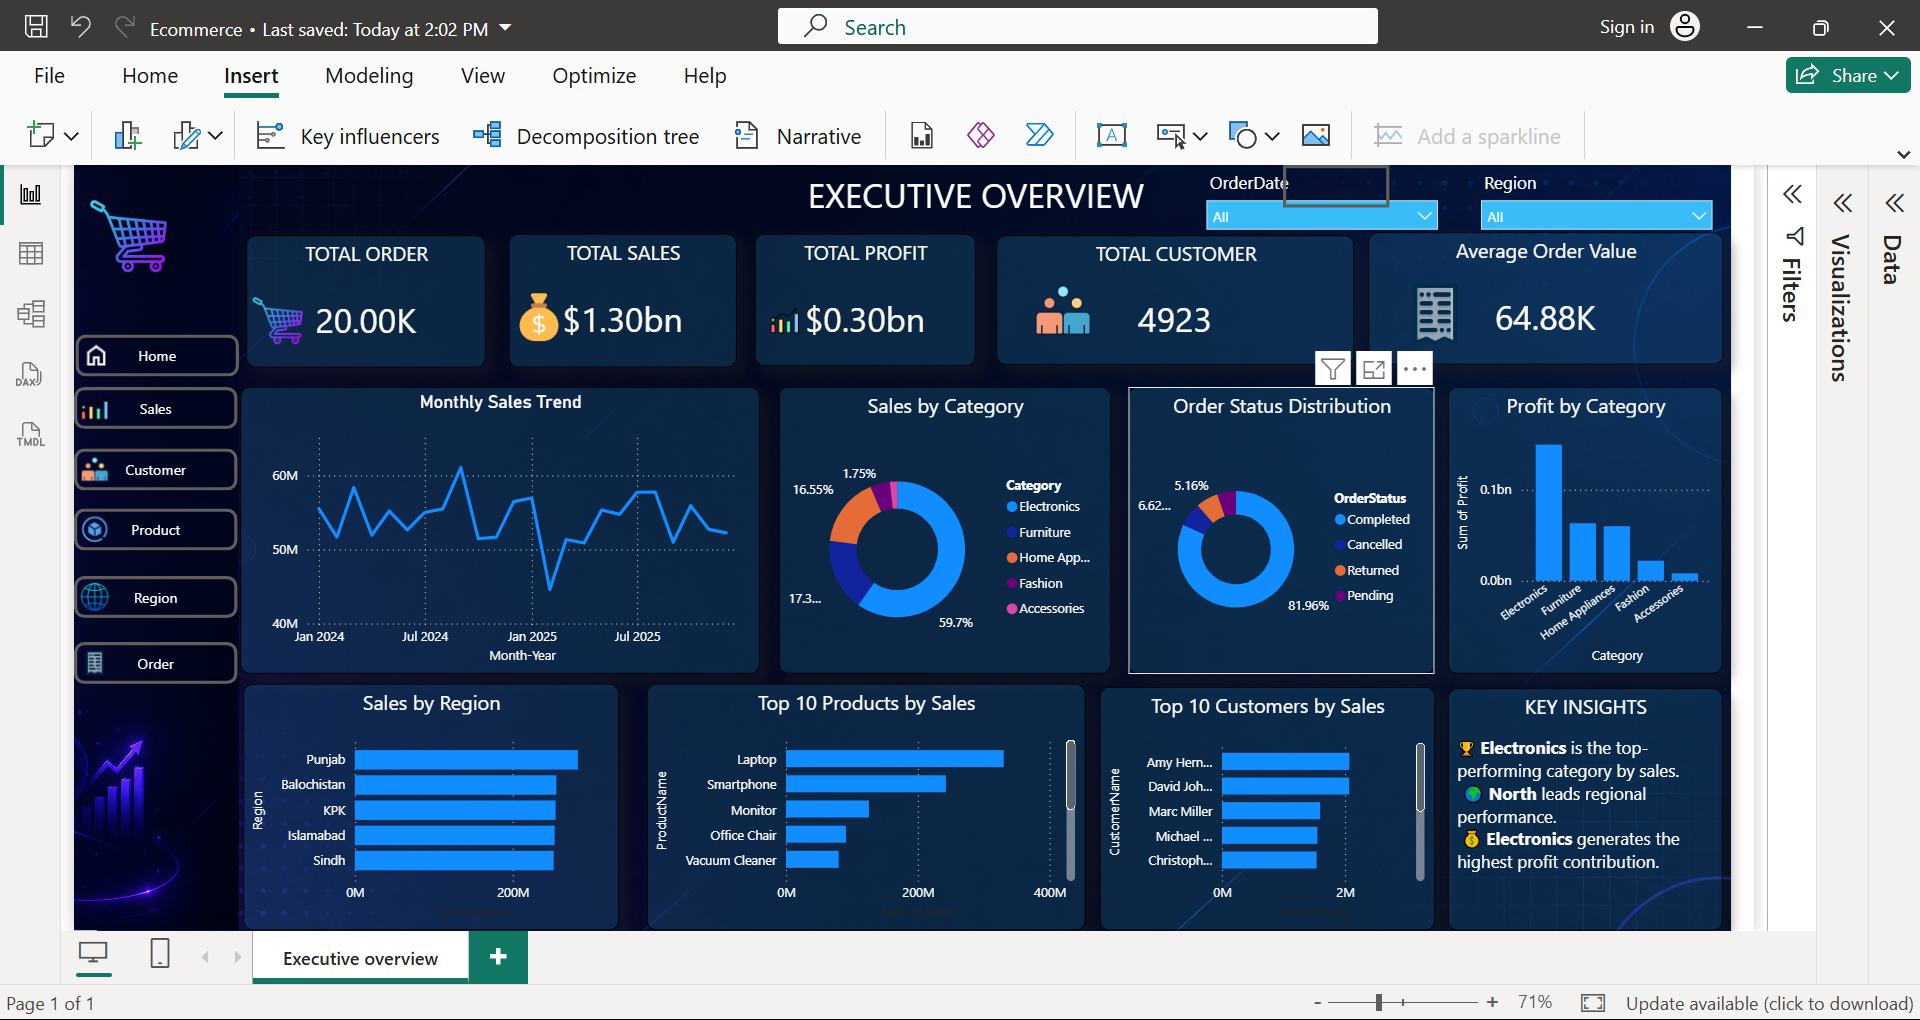

Layout of this report page (visuals, bound fields, positions):
{"tool":"powerbi","page":{"name":"Executive overview","canvas":[1580,720],"ordinal":0},"visuals":[{"type":"card","title":"TOTAL ORDER","fields":{"Values":["Count(ecommerce_orders.OrderID)"]},"box":[162.6,66.9,224.7,124.3],"z":0},{"type":"image","box":[162.6,117.9,59,55.8],"z":1000},{"type":"card","title":"TOTAL SALES","fields":{"Values":["Sum(ecommerce_orders.Sales)"]},"box":[409.3,65.1,214.3,125.5],"z":2000},{"type":"card","title":"TOTAL PROFIT","fields":{"Values":["Sum(ecommerce_orders.Profit)"]},"box":[640.5,65.1,207.4,124.2],"z":3000},{"type":"card","title":"Average Order Value","fields":{"Values":["customers.Average Order Value"]},"box":[1216.1,63.8,333.1,124.3],"z":4000},{"type":"card","title":"TOTAL CUSTOMER","fields":{"Values":["Count(ecommerce_orders.CustomerID)"]},"box":[867,66.9,336.3,121.1],"z":5000},{"type":"image","box":[0,0,154.4,719.2],"z":6000},{"type":"image","box":[5.6,24,91.6,86],"z":7000},{"type":"textbox","box":[135.5,0,1424.9,66.9],"z":8000},{"type":"image","box":[412.8,117.9,47.8,49.4],"z":9000},{"type":"image","box":[651.9,132.3,33.5,27.1],"z":10000},{"type":"image","box":[884.6,110,90.8,52.6],"z":11000},{"type":"image","box":[1236.8,106.8,86.1,66.9],"z":12000},{"type":"lineChart","title":"Monthly Sales Trend","fields":{"Y":["Sum(ecommerce_orders.Sales)"],"Category":["ecommerce_orders.OrderDate.Variation.Date Hierarchy.Year","ecommerce_orders.OrderDate.Variation.Date Hierarchy.Month"]},"box":[156.5,208.7,487.8,269.3],"z":13000},{"type":"donutChart","title":"Sales by Category","fields":{"Category":["products.Category"],"Y":["Sum(ecommerce_orders.Sales)"]},"box":[663.2,209,311.9,269.5],"z":14000},{"type":"donutChart","title":"Order Status Distribution","fields":{"Category":["ecommerce_orders.OrderStatus"],"Y":["Sum(ecommerce_orders.Sales)"]},"box":[991.8,209,287.7,269.5],"z":15000},{"type":"clusteredBarChart","title":"Sales by Region","fields":{"Category":["customers.Region"],"Y":["Sum(ecommerce_orders.Sales)"]},"box":[159.3,487.8,352.5,231.2],"z":16000},{"type":"clusteredBarChart","title":"Top 10 Products by Sales","fields":{"Y":["Sum(ecommerce_orders.Sales)"],"Category":["products.ProductName"]},"box":[538.6,487.8,411.7,231.2],"z":17000},{"type":"clusteredBarChart","title":"Top 10 Customers by Sales","fields":{"Y":["Sum(ecommerce_orders.Sales)"],"Category":["ecommerce_orders.CustomerName"]},"box":[964.4,490.7,314.4,228.4],"z":18000},{"type":"clusteredColumnChart","title":"Profit by Category","fields":{"Category":["products.Category"],"Y":["Sum(ecommerce_orders.Profit)"]},"box":[1291.5,209.3,257.9,269.1],"z":19000},{"type":"textbox","title":"KEY INSIGHTS","box":[1291.5,492.1,258,227],"z":20000},{"type":"slicer","fields":{"Values":["ecommerce_orders.OrderDate"]},"box":[1054.2,0,237.4,63.5],"z":21000},{"type":"slicer","fields":{"Values":["ecommerce_orders.Region"]},"box":[1312.1,0,237.4,63.5],"z":22000},{"type":"actionButton","box":[1.4,159.3,153.7,39.5],"z":24000},{"type":"actionButton","box":[0,208.8,153.7,39.5],"z":25000},{"type":"actionButton","box":[0,266.2,153.7,39.5],"z":26000},{"type":"actionButton","box":[0,323.5,153.7,39.5],"z":27000},{"type":"actionButton","box":[0,385.7,153.7,39.5],"z":28000},{"type":"actionButton","box":[0,447.9,153.7,39.5],"z":29000}]}

Visuals, with their boxes on the page's 1580x720 design canvas (x1, y1, x2, y2). These are canvas units, not pixel positions in the 1920x1020 screenshot, which may show the page scaled, cropped or inside an application window:
"TOTAL ORDER" card: {"x1": 163, "y1": 67, "x2": 387, "y2": 191}
image: {"x1": 163, "y1": 118, "x2": 222, "y2": 174}
"TOTAL SALES" card: {"x1": 409, "y1": 65, "x2": 624, "y2": 191}
"TOTAL PROFIT" card: {"x1": 640, "y1": 65, "x2": 848, "y2": 189}
"Average Order Value" card: {"x1": 1216, "y1": 64, "x2": 1549, "y2": 188}
"TOTAL CUSTOMER" card: {"x1": 867, "y1": 67, "x2": 1203, "y2": 188}
image: {"x1": 0, "y1": 0, "x2": 154, "y2": 719}
image: {"x1": 6, "y1": 24, "x2": 97, "y2": 110}
textbox: {"x1": 136, "y1": 0, "x2": 1560, "y2": 67}
image: {"x1": 413, "y1": 118, "x2": 461, "y2": 167}
image: {"x1": 652, "y1": 132, "x2": 685, "y2": 159}
image: {"x1": 885, "y1": 110, "x2": 975, "y2": 163}
image: {"x1": 1237, "y1": 107, "x2": 1323, "y2": 174}
"Monthly Sales Trend" lineChart: {"x1": 156, "y1": 209, "x2": 644, "y2": 478}
"Sales by Category" donutChart: {"x1": 663, "y1": 209, "x2": 975, "y2": 478}
"Order Status Distribution" donutChart: {"x1": 992, "y1": 209, "x2": 1280, "y2": 478}
"Sales by Region" clusteredBarChart: {"x1": 159, "y1": 488, "x2": 512, "y2": 719}
"Top 10 Products by Sales" clusteredBarChart: {"x1": 539, "y1": 488, "x2": 950, "y2": 719}
"Top 10 Customers by Sales" clusteredBarChart: {"x1": 964, "y1": 491, "x2": 1279, "y2": 719}
"Profit by Category" clusteredColumnChart: {"x1": 1292, "y1": 209, "x2": 1549, "y2": 478}
"KEY INSIGHTS" textbox: {"x1": 1292, "y1": 492, "x2": 1550, "y2": 719}
slicer - ecommerce_orders.OrderDate: {"x1": 1054, "y1": 0, "x2": 1292, "y2": 64}
slicer - ecommerce_orders.Region: {"x1": 1312, "y1": 0, "x2": 1550, "y2": 64}
actionButton: {"x1": 1, "y1": 159, "x2": 155, "y2": 199}
actionButton: {"x1": 0, "y1": 209, "x2": 154, "y2": 248}
actionButton: {"x1": 0, "y1": 266, "x2": 154, "y2": 306}
actionButton: {"x1": 0, "y1": 324, "x2": 154, "y2": 363}
actionButton: {"x1": 0, "y1": 386, "x2": 154, "y2": 425}
actionButton: {"x1": 0, "y1": 448, "x2": 154, "y2": 487}
